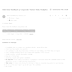

The dashboard page shown, as its layout file describes it:
{"tool":"powerbi","page":{"name":"Page 1","canvas":[1280,720],"ordinal":0},"visuals":[{"type":"group","id":"g1","title":"Group 2","box":[321.7,0,943.3,249.2],"z":0},{"type":"cardVisual","fields":{"Data":["Course.Total Courses"]},"box":[321.9,0,237.7,124.9],"z":0,"group":"g1"},{"type":"slicer","fields":{"Values":["Trainer.TrainerName"]},"box":[34.3,174.2,279.7,150],"z":0,"group":"g2"},{"type":"cardVisual","fields":{"Data":["Course.Total Mocks"]},"box":[549.9,0,238.4,124.9],"z":1000,"group":"g1"},{"type":"textbox","box":[25.4,36.9,296.2,50.9],"z":1000},{"type":"slicer","fields":{"Values":["Course.CourseName"]},"box":[34.3,339.5,279.7,255.5],"z":1000,"group":"g2"},{"type":"cardVisual","fields":{"Data":["Course.Trainer-Course Validated"]},"box":[788.3,0,238.4,124.9],"z":2000,"group":"g1"},{"type":"group","id":"g2","title":"Group 1","box":[34.3,174.2,279.7,507.3],"z":2000},{"type":"slicer","fields":{"Values":["TrainerCourseMapping.MappingStatus"]},"box":[34.3,610.3,279.7,71.2],"z":2000,"group":"g2"},{"type":"cardVisual","fields":{"Data":["Course.Avg Mocks per Trainer-Course"]},"box":[1026.7,0,238.4,124.9],"z":3000,"group":"g1"},{"type":"pivotTable","fields":{"Rows":["Trainer.TrainerName","Course.CourseName"],"Values":["Course.Total Mocks","Course.Latest Activity Type","Course.Latest Mock Summary"]},"box":[338.2,249.2,942.1,443.7],"z":3000},{"type":"cardVisual","fields":{"Data":["Course.Latest Mock Rating"]},"box":[321.7,124.6,943.3,124.6],"z":4000,"group":"g1"}]}

Visuals, with their boxes on the page's 1280x720 design canvas (x1, y1, x2, y2). These are canvas units, not pixel positions in the 72x72 screenshot, which may show the page scaled, cropped or inside an application window:
"Group 2" group: <bbox>322, 0, 1265, 249</bbox>
cardVisual - Course.Total Courses: <bbox>322, 0, 560, 125</bbox>
slicer - Trainer.TrainerName: <bbox>34, 174, 314, 324</bbox>
cardVisual - Course.Total Mocks: <bbox>550, 0, 788, 125</bbox>
textbox: <bbox>25, 37, 322, 88</bbox>
slicer - Course.CourseName: <bbox>34, 340, 314, 595</bbox>
cardVisual - Course.Trainer-Course Validated: <bbox>788, 0, 1027, 125</bbox>
"Group 1" group: <bbox>34, 174, 314, 682</bbox>
slicer - TrainerCourseMapping.MappingStatus: <bbox>34, 610, 314, 682</bbox>
cardVisual - Course.Avg Mocks per Trainer-Course: <bbox>1027, 0, 1265, 125</bbox>
pivotTable - Trainer.TrainerName x Course.CourseName: <bbox>338, 249, 1280, 693</bbox>
cardVisual - Course.Latest Mock Rating: <bbox>322, 125, 1265, 249</bbox>
